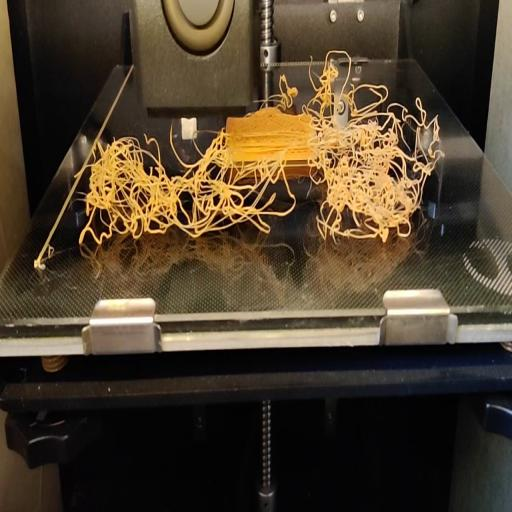spaghetti: (73, 108, 444, 252), (304, 48, 392, 108), (264, 66, 296, 104)
